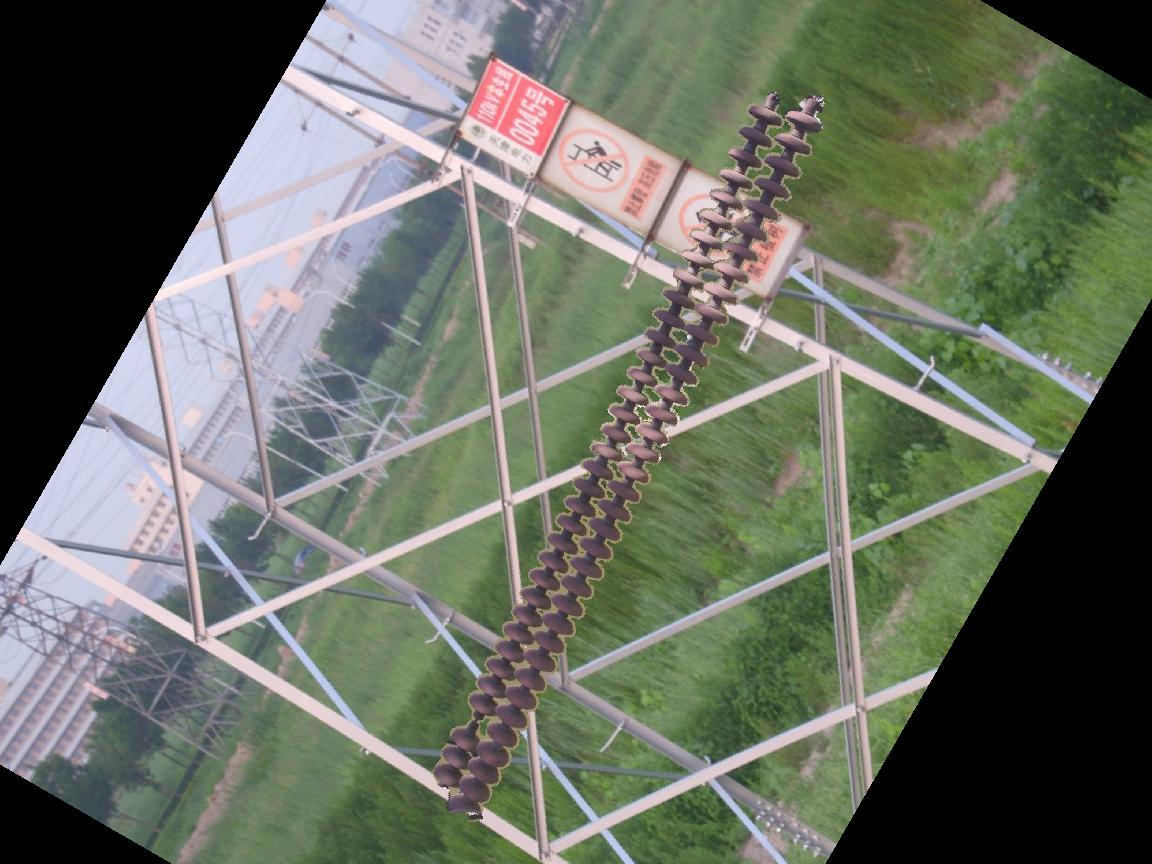insulator: (428, 90, 828, 815)
insulator_stringdrop: (447, 689, 501, 756)
